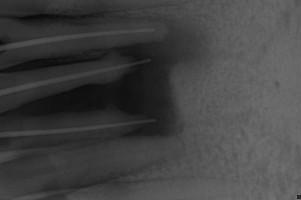Dental Caries: (58, 18, 208, 136)
